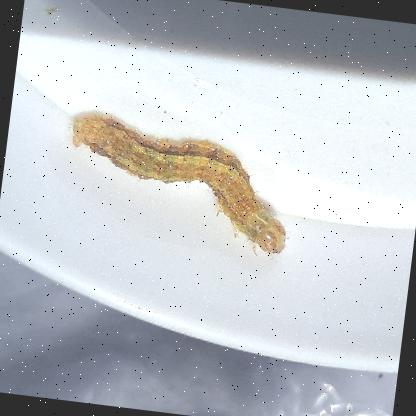Fall Armyworm Larvae: (51, 105, 306, 265)
